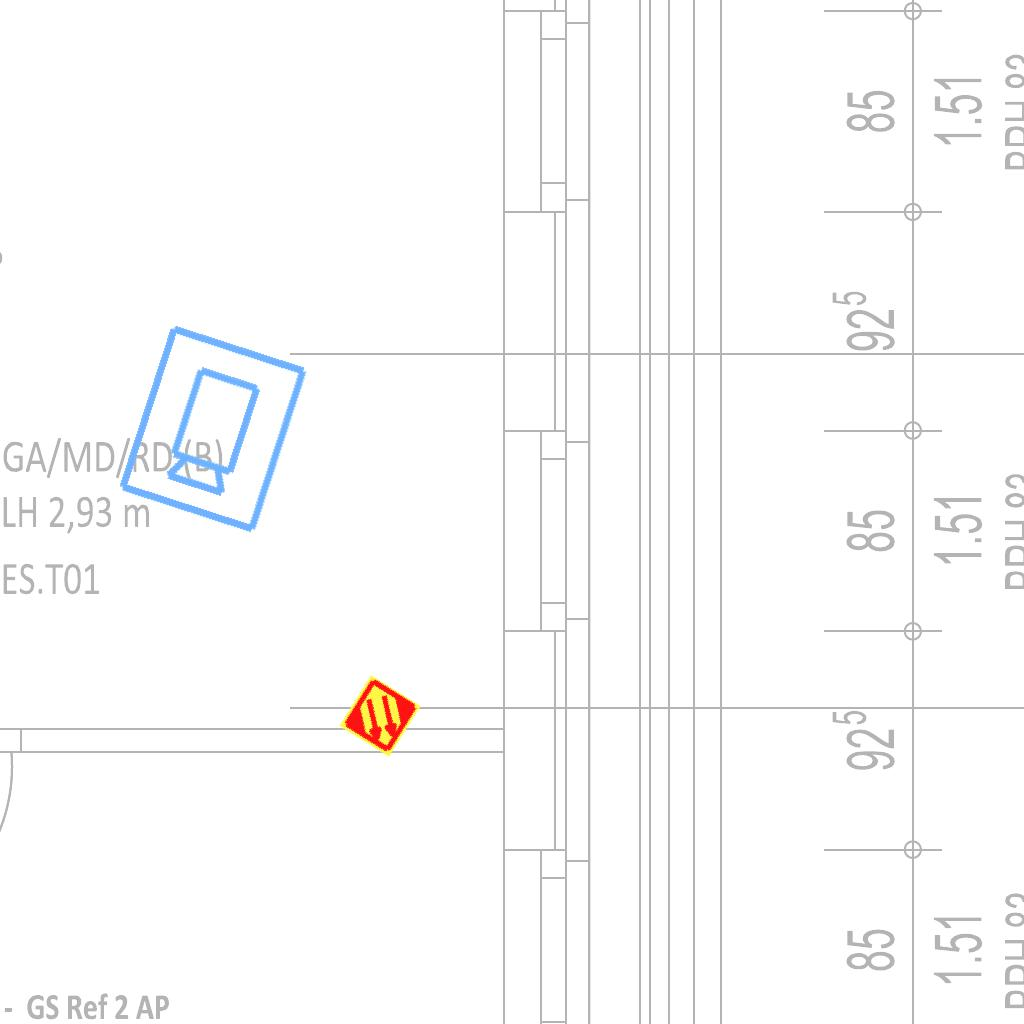ASR_Ansaugrauchmelder: (337, 673, 423, 759)
KFO_Kamera_mit_Festobjektiv: (110, 317, 314, 539)
